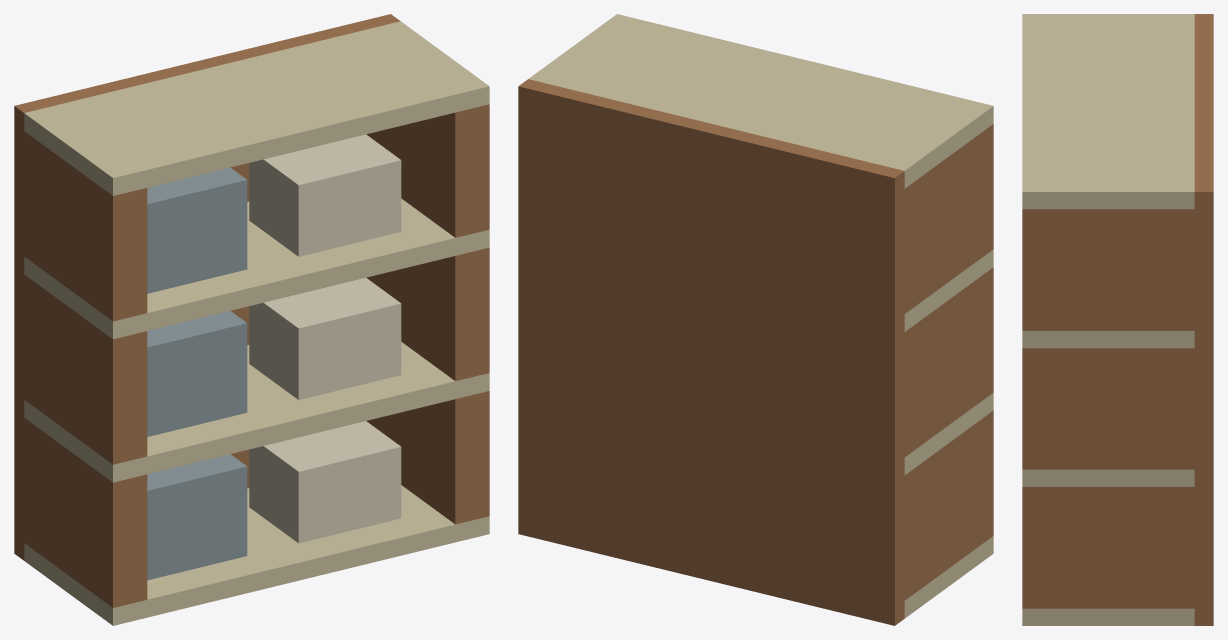
Rendered from news-14.glb.
3 renders of one model, left to right at view 1: azimuth 30°, elevation 25°; view 2: azimuth 150°, elevation 25°; view 3: azimuth 270°, elevation 25°, orthographic. The views are drawn at different scales.
Visible parts, largest first — view 1: Story archive; view 2: Story archive; view 3: Story archive.
Boxes of the visible parts, x1,y1,x2,y2 form: Story archive: (14,14,489,625); Story archive: (518,14,993,625); Story archive: (1022,14,1213,625).
Size of the model in its own units: 1.76 by 2 by 0.8.
